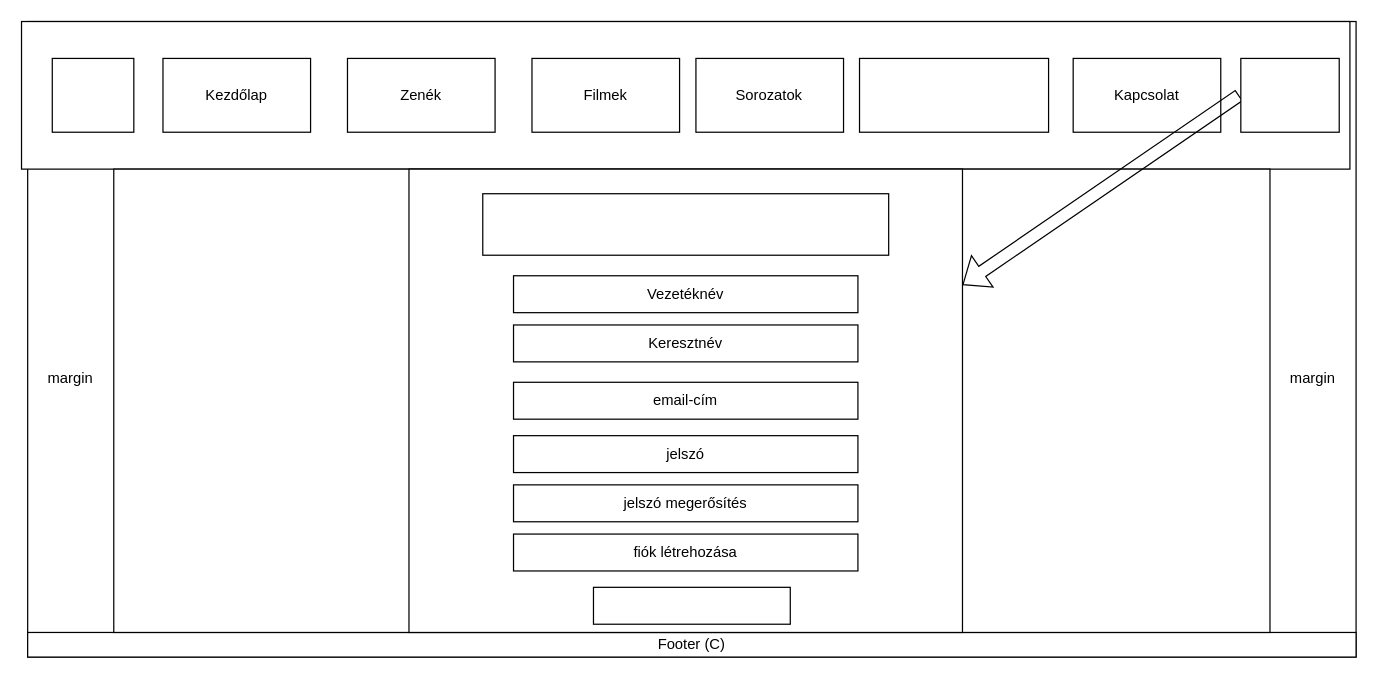
The diagram is 1378 pixels wide and 679 high, and some of its shapes have lost their labels. The shapes that lost their labels are listed below. From the top down, each one's box as (x1, y1, x2, y2) in pixels, then its label:
(51, 57, 134, 132): Logo (opcionális)
(858, 57, 1049, 132): Kosár
(1240, 57, 1339, 132): Bej./Reg.
(482, 192, 889, 255): Regisztráció
(592, 586, 790, 624): Már van fiókom
